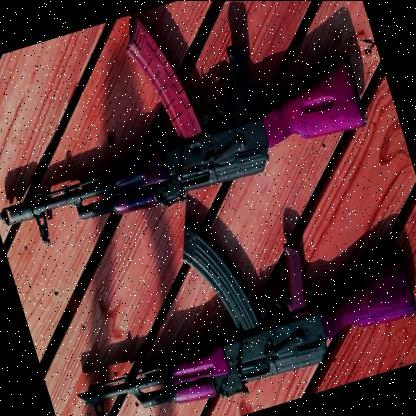rifle: (0, 0, 383, 270), (33, 164, 416, 416)
